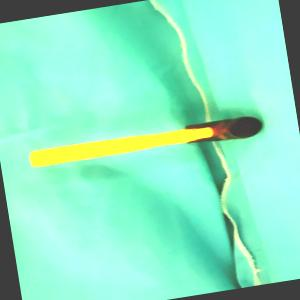martelo: (26, 112, 264, 171)
